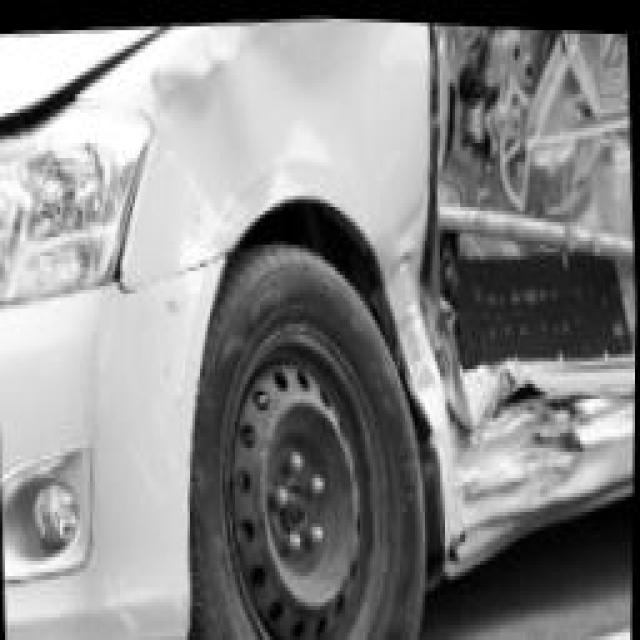Bonnet: (0, 31, 190, 146)
Bumper: (0, 269, 219, 640)
Door: (362, 15, 639, 607)
Fender: (77, 14, 466, 567)
